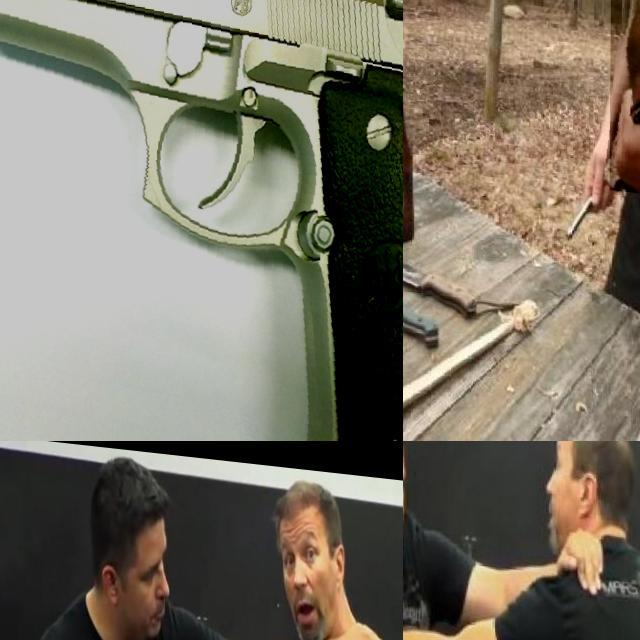-: (609, 0, 640, 188)
gun-knife-thesis - v11 Yolov5 augmented: (0, 0, 403, 441)
